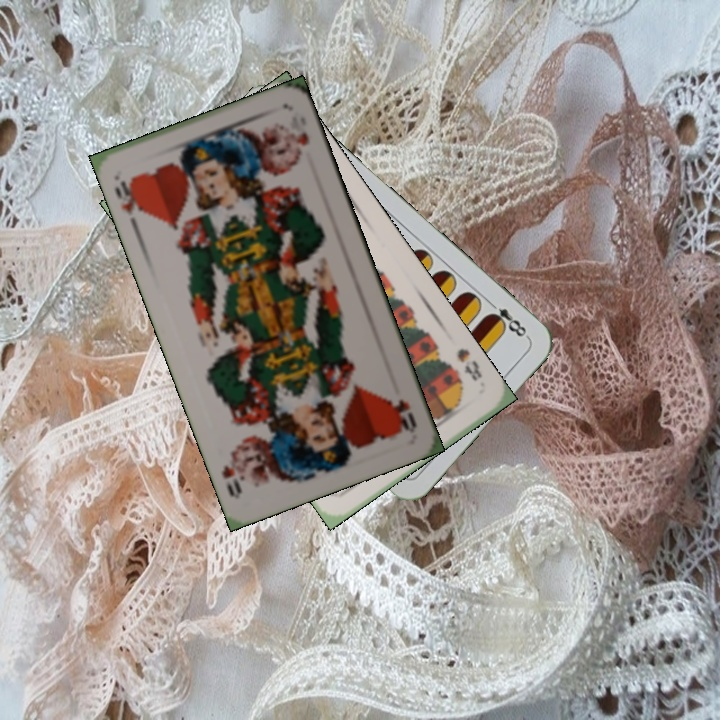E8: (483, 296, 531, 341)
HO: (110, 174, 147, 218), (387, 394, 420, 435)
S8: (452, 344, 485, 384)
